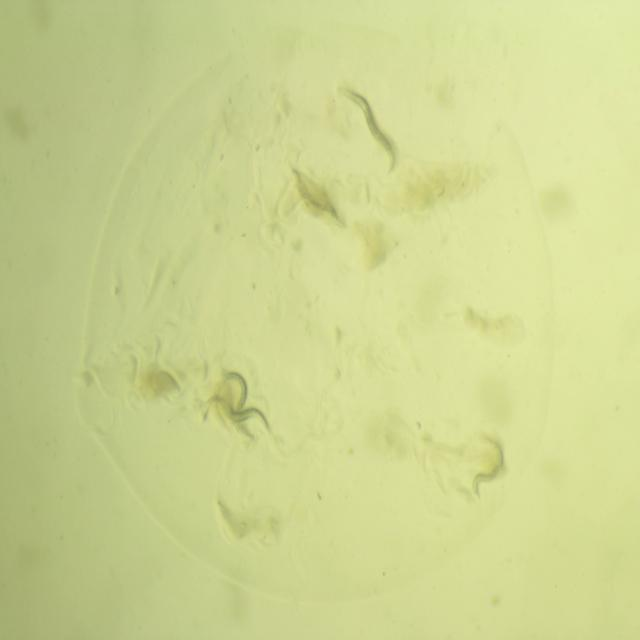worm: (337, 79, 405, 183), (284, 153, 356, 244), (458, 423, 518, 508), (208, 364, 262, 447), (198, 388, 275, 445)
